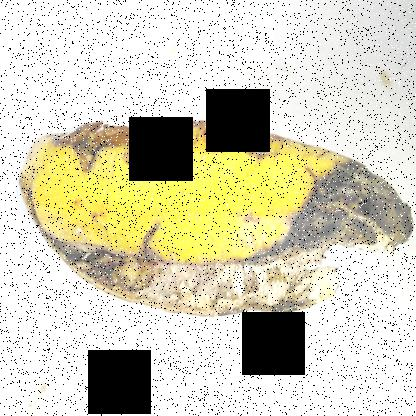rotten: (9, 109, 385, 348)
